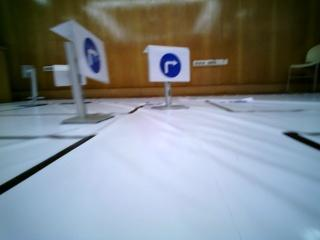right: (71, 24, 110, 82), (147, 45, 190, 83)
